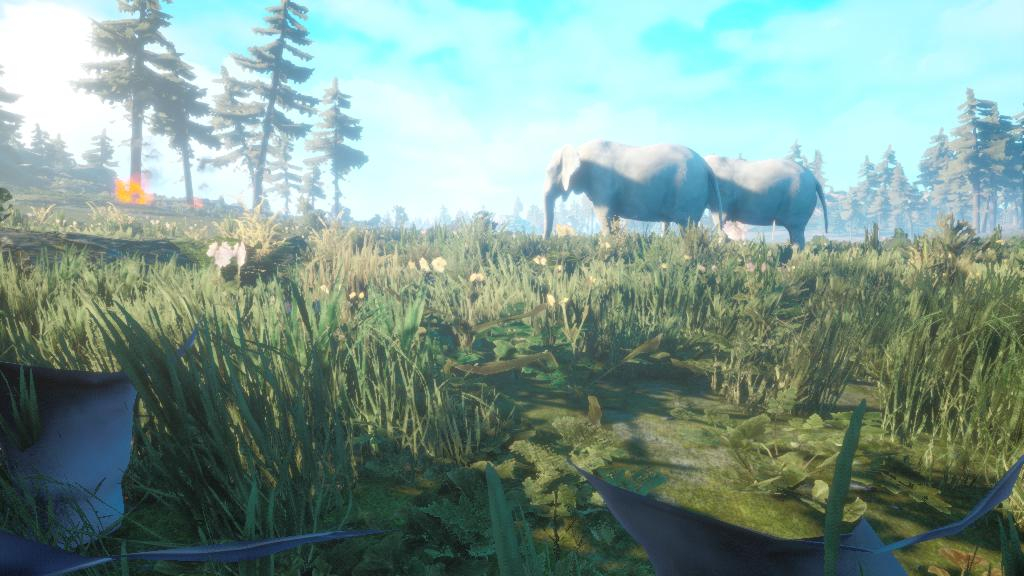elephant: (536, 137, 725, 244), (695, 156, 832, 261)
